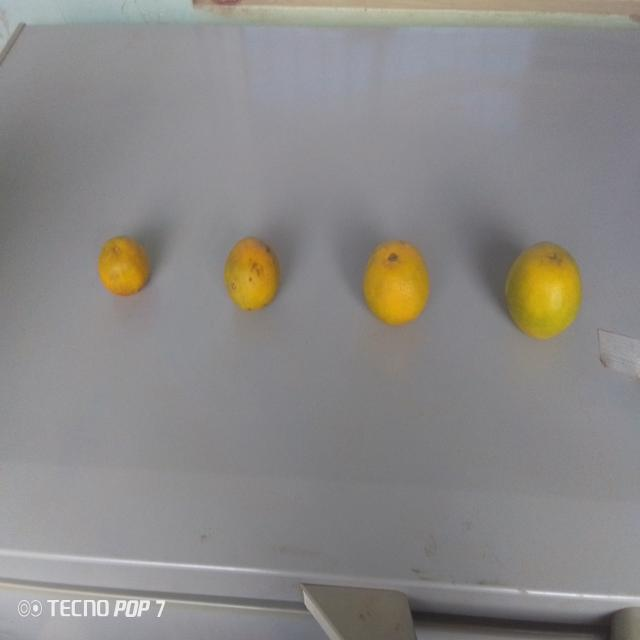Ripe orange: (506, 230, 579, 344), (359, 228, 431, 330), (222, 230, 278, 322), (94, 232, 155, 300)
